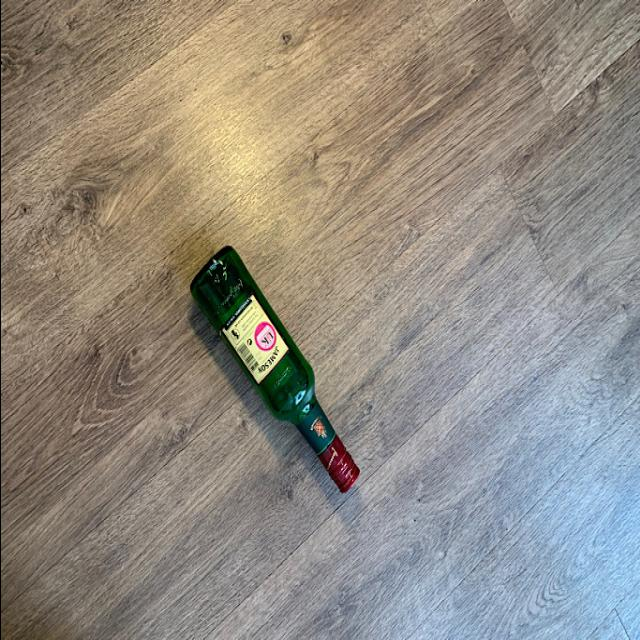Glass Bottle: (187, 242, 360, 496)
